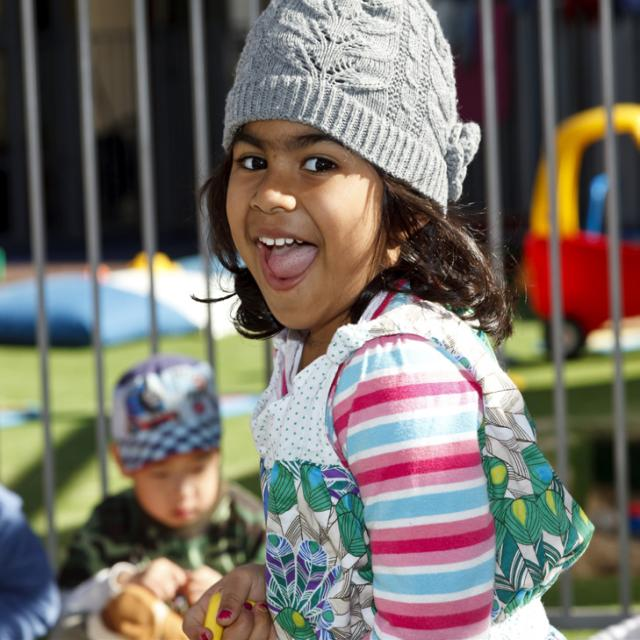child: (195, 1, 580, 640), (69, 352, 266, 640)
